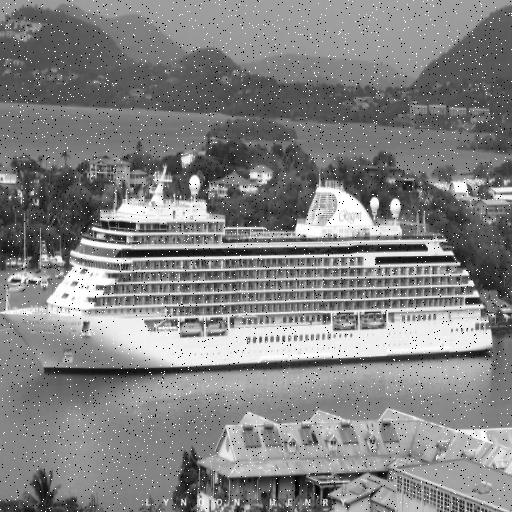cruises: (1, 161, 503, 368)
